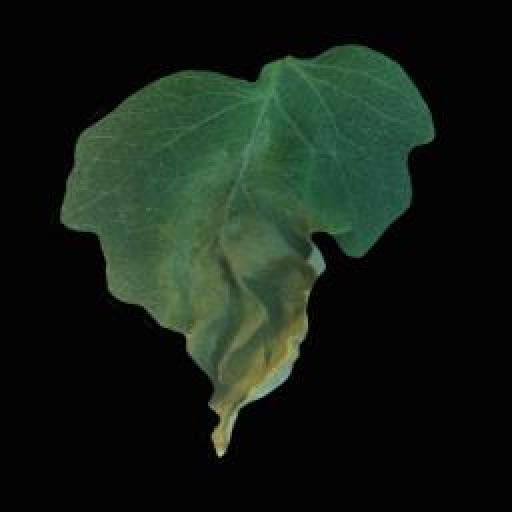Late Blight: (57, 45, 436, 459)
